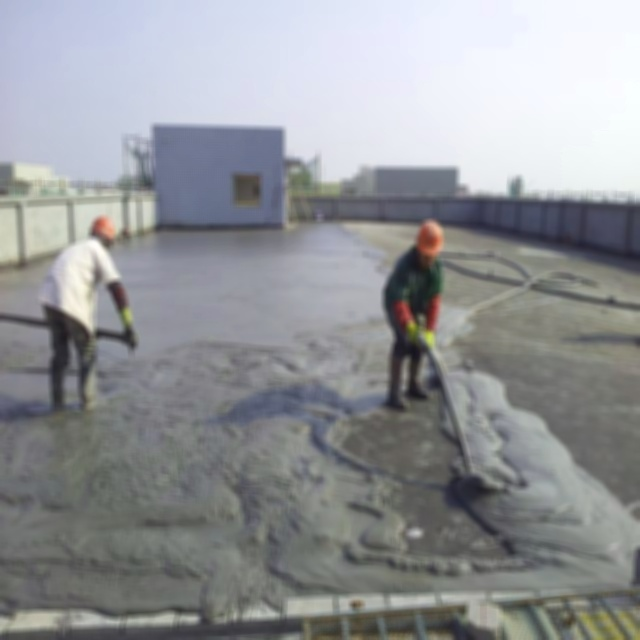Con_Casco: (416, 219, 443, 263)
